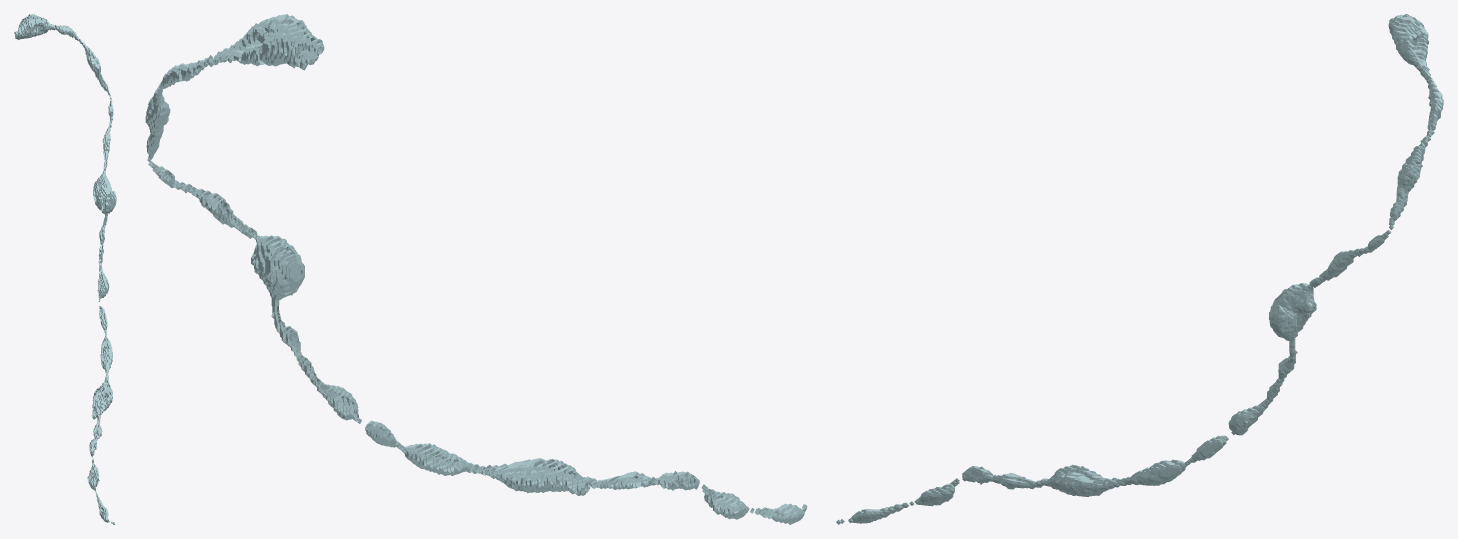
Rendered from SVV_ASJR.gltf.
3 renders of one model, left to right at view 1: azimuth 30°, elevation 25°; view 2: azimuth 150°, elevation 25°; view 3: azimuth 270°, elevation 25°, orthographic. The views are drawn at different scales.
Parts seen in each view (by area): view 1: ASJR; view 2: ASJR; view 3: ASJR.
Boxes of the visible parts, x1,y1,x2,y2 form: ASJR: (14, 14, 116, 524); ASJR: (145, 14, 807, 524); ASJR: (836, 14, 1443, 524).
Size of the model in its own units: 78430 by 156325 by 148230.
